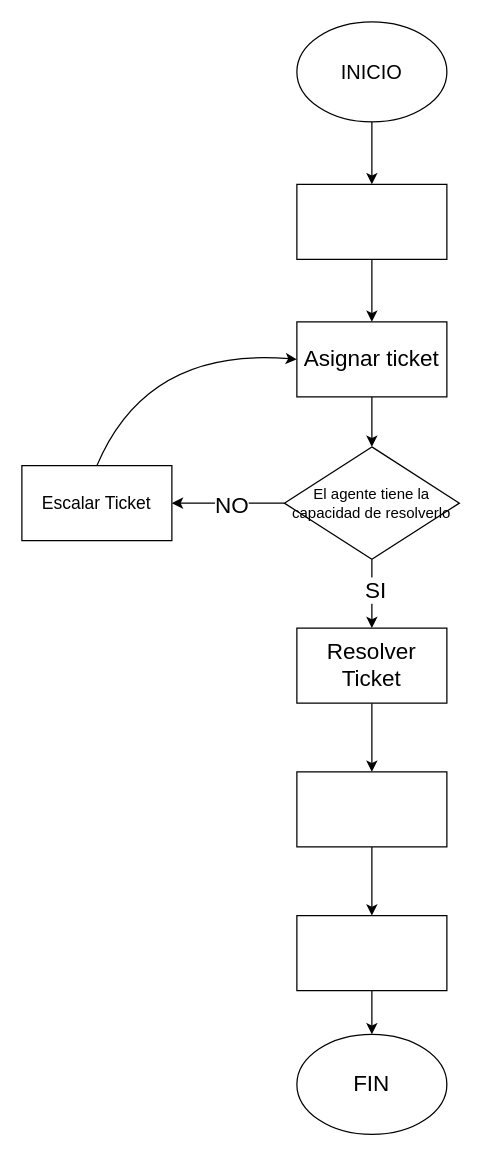
The diagram is 481 pixels wide and 1156 high, and some of its shapes have lost their labels. Each missing label, with the centre of its shape:
"Crear ticket" belongs at pixel 371 221.
"Generar Métricas" belongs at pixel 371 952.
"Registrar Bitácora" belongs at pixel 371 809.
